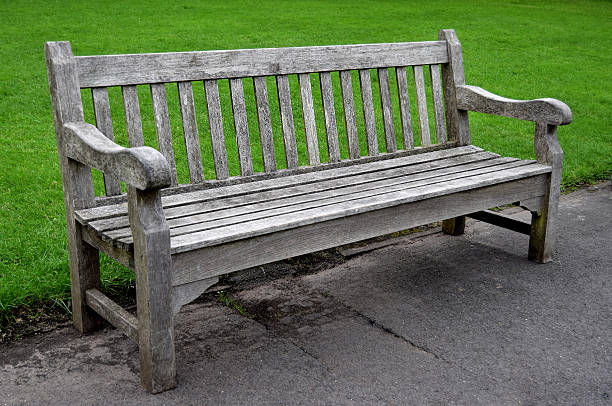Bench: (29, 28, 576, 401)
